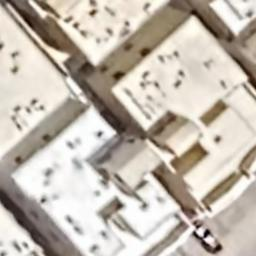sedan: (194, 224, 223, 254)
